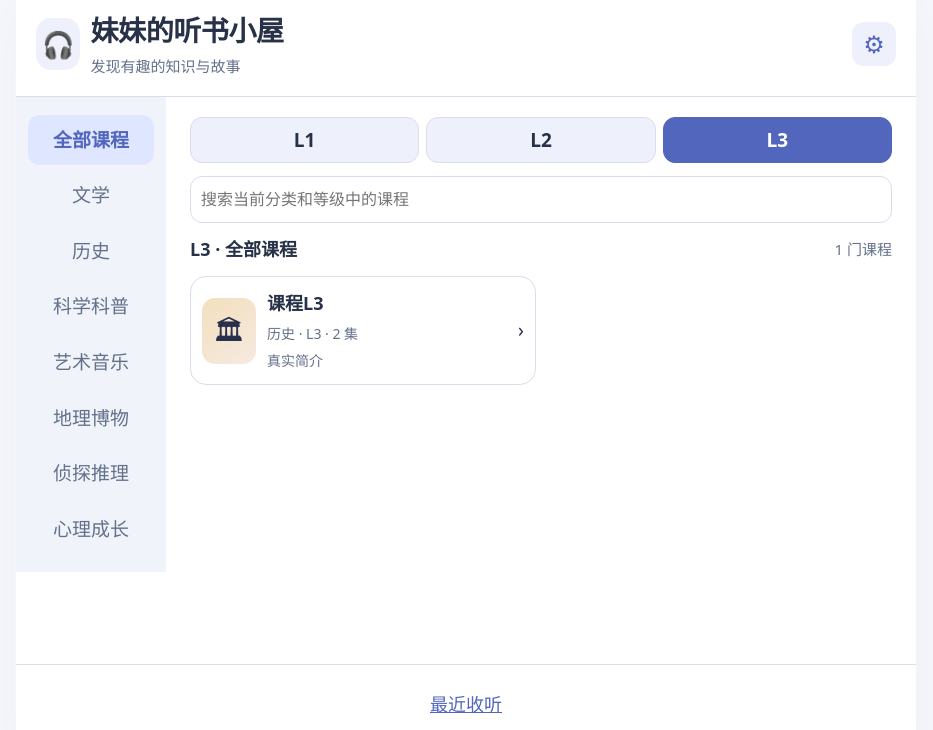
default L3, combined filters, clear scoped search and empty state
Expected: the text "课程L3" is shown, [267,291,324,315]
Expected: the text "课程L1" is not shown
Click the button "文学": (91, 196) [28,170,154,221]
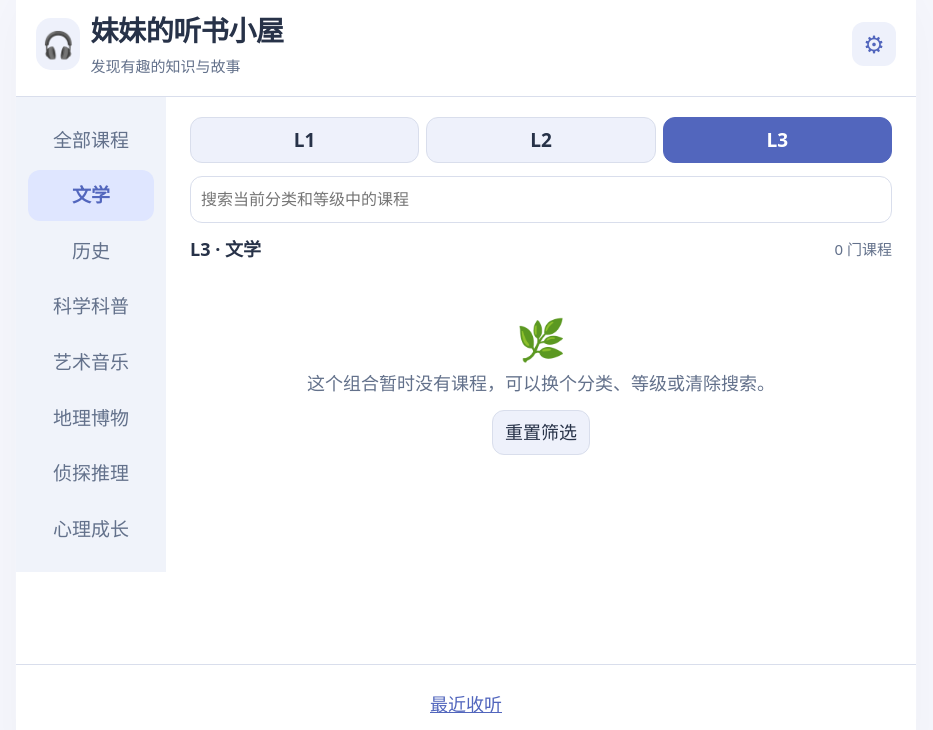
Expected: the link "课程L3" is gone
Expected: the text "这个组合暂时没有课程，可以换个分类、等级或清除搜索。" is shown, [307,371,775,395]
Click the button "L1": (305, 140) [190,117,419,163]
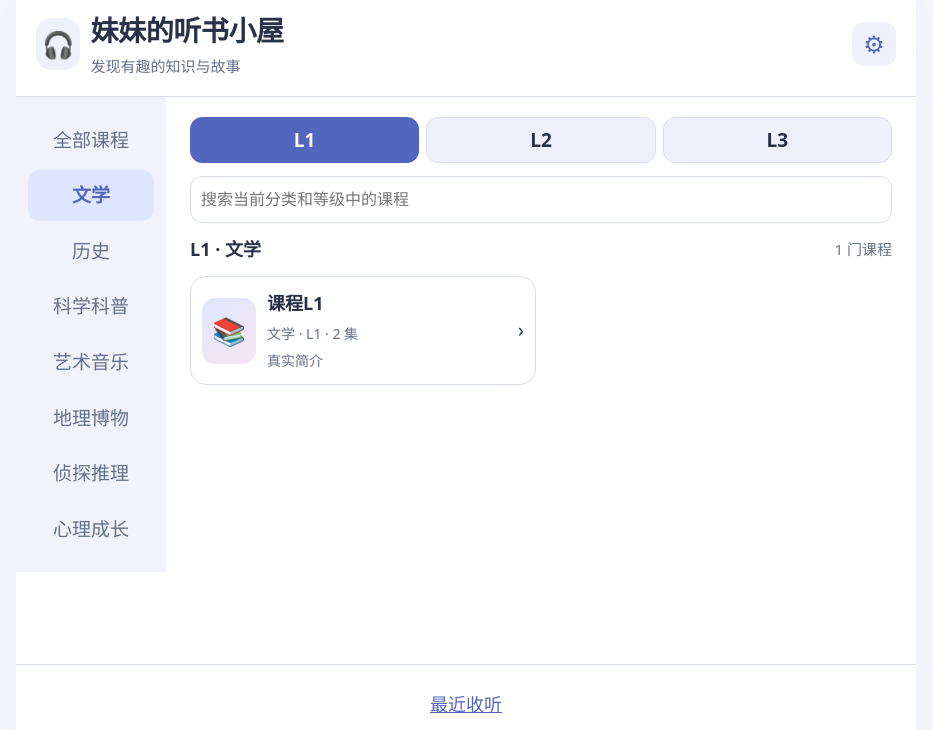
Expected: the text "课程L1" is shown, [267,291,324,315]
In the search field: (541, 200) [190,176,892,223], type "不存在"
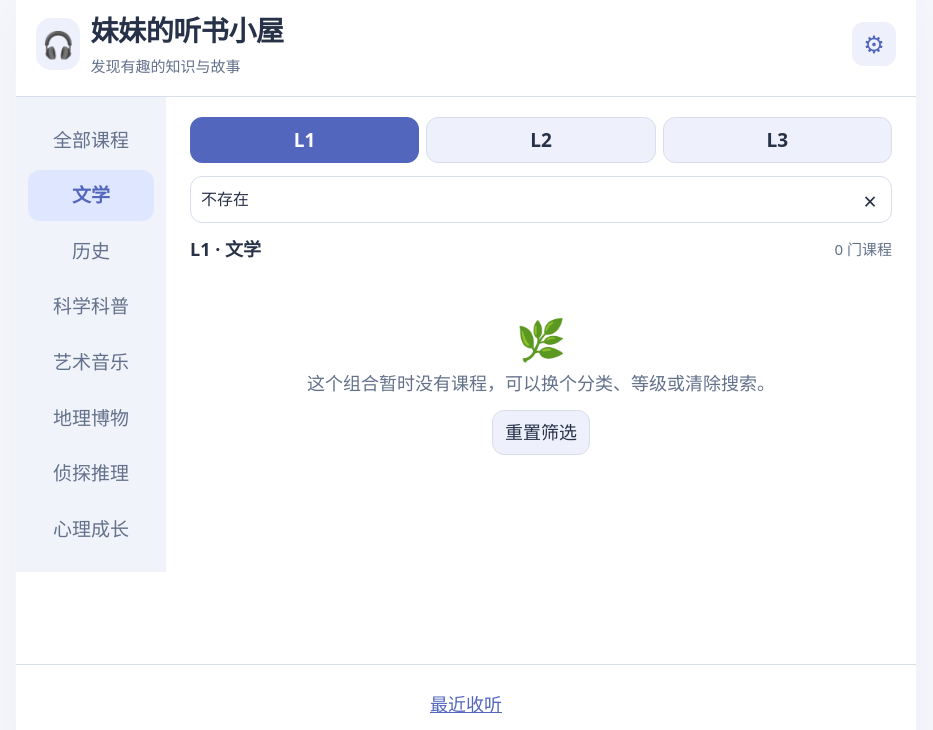
Expected: the link "课程L1" is gone
Click the button named "清除搜索": (870, 200) [848,176,892,223]
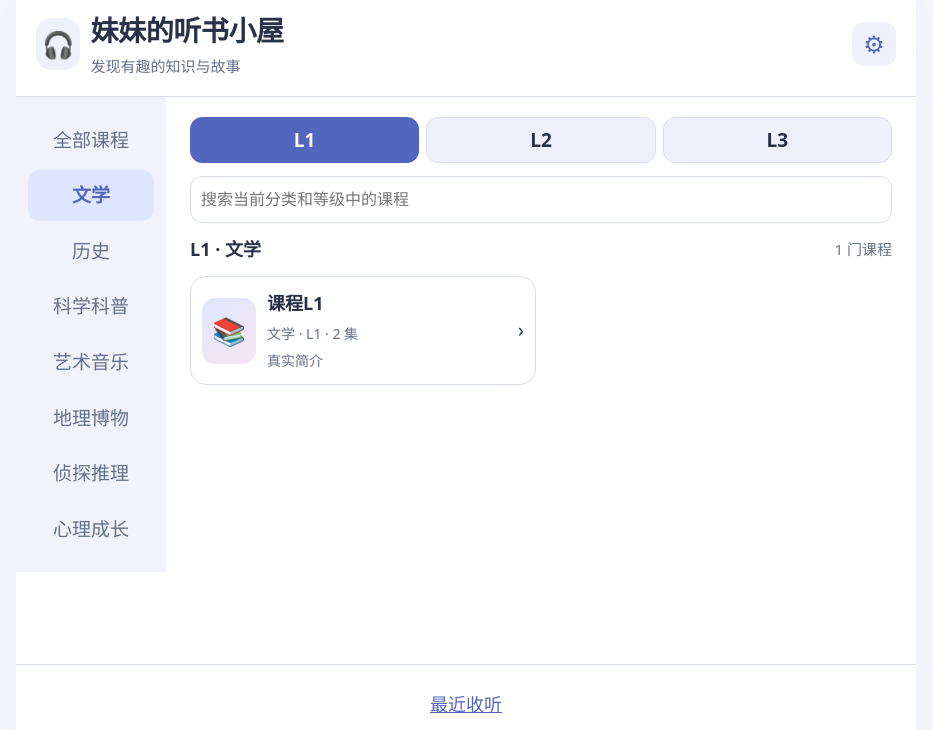
Expected: the text "课程L1" is shown, [267,291,324,315]
